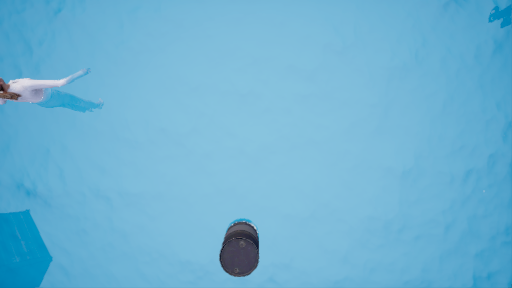person: (1, 67, 103, 121)
